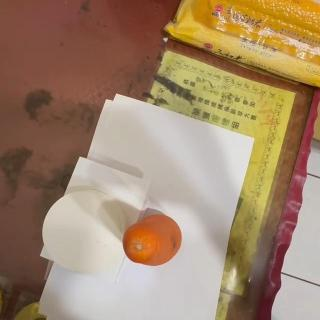carrot: (124, 212, 182, 269)
